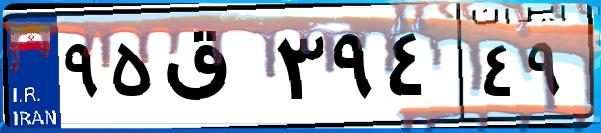3: (270, 28, 330, 110)
4: (385, 28, 445, 110), (475, 38, 525, 113)
5: (110, 28, 158, 98)
9: (330, 28, 385, 110), (57, 26, 110, 100), (525, 38, 570, 115)
ق: (158, 20, 270, 120)
